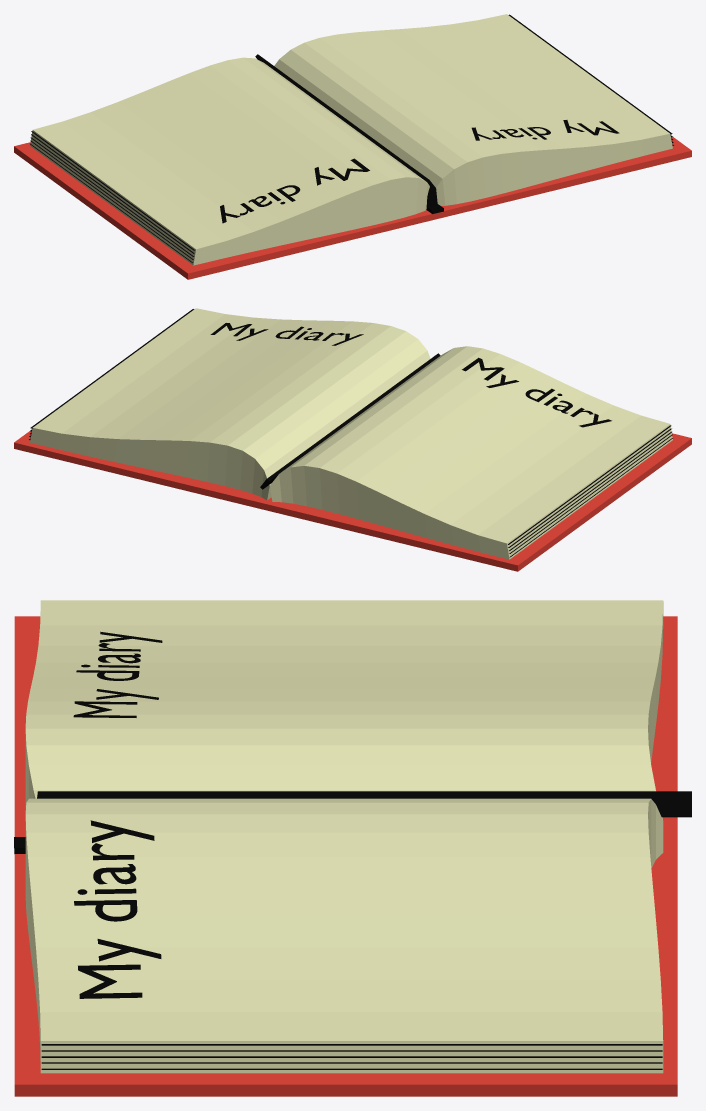
The model's file is book.fbx.
The picture shows the model from 3 angles, top to bottom: view 1: azimuth 30°, elevation 25°; view 2: azimuth 150°, elevation 25°; view 3: azimuth 270°, elevation 25°; orthographic projection. The views are drawn at different scales.
Parts seen in each view (by area): view 1: BezierCurve, Cube, Cube.001, Text.001, Text; view 2: BezierCurve, Cube, Text.001, Cube.001, Text; view 3: BezierCurve, Cube, Cube.001, Text, Text.001, Plane.001, Plane.002, Plane.003, Plane.004, Plane.
Part boxes in pixels (box(x1,y1,x2,y2)): BezierCurve: box(30, 14, 672, 265); Cube: box(14, 137, 691, 279); Cube.001: box(255, 54, 437, 210); Text.001: box(220, 158, 369, 223); Text: box(471, 120, 619, 140); BezierCurve: box(30, 308, 672, 559); Cube: box(14, 431, 691, 571); Text.001: box(462, 357, 611, 427); Cube.001: box(260, 353, 440, 489); Text: box(210, 323, 363, 345); BezierCurve: box(25, 600, 663, 1073); Cube: box(14, 616, 677, 1096); Cube.001: box(37, 791, 691, 817); Text: box(74, 820, 161, 998); Text.001: box(73, 631, 162, 717); Plane.001: box(41, 1062, 662, 1063); Plane.002: box(41, 1056, 662, 1057); Plane.003: box(41, 1050, 662, 1051); Plane.004: box(41, 1044, 662, 1045); Plane: box(41, 1068, 662, 1069).
Size of the model in its own units: 425 by 40.11 by 260.
